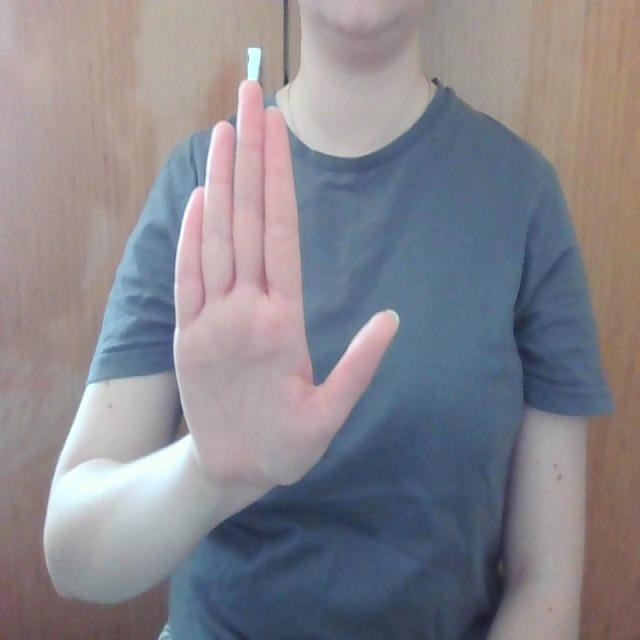Dur: (126, 77, 412, 500)
